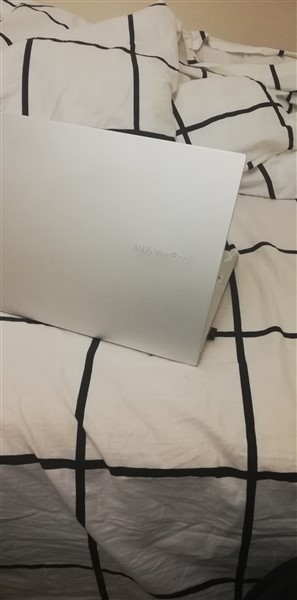laptop: (1, 107, 251, 361)
